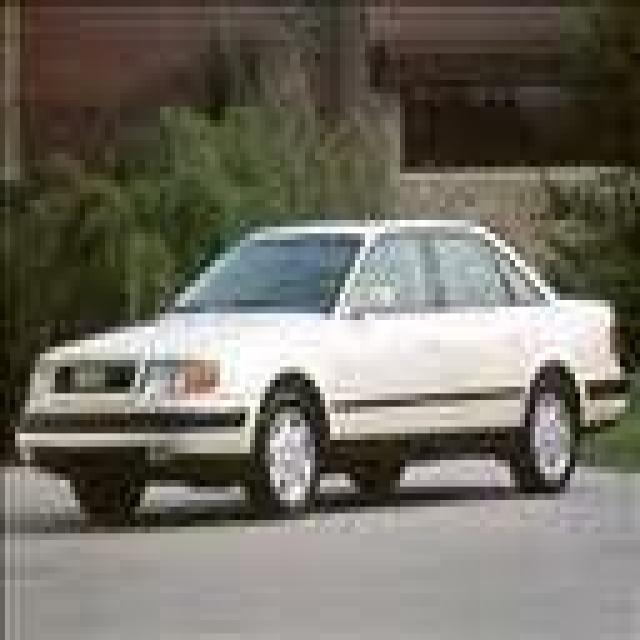Car: (45, 130, 640, 544)
